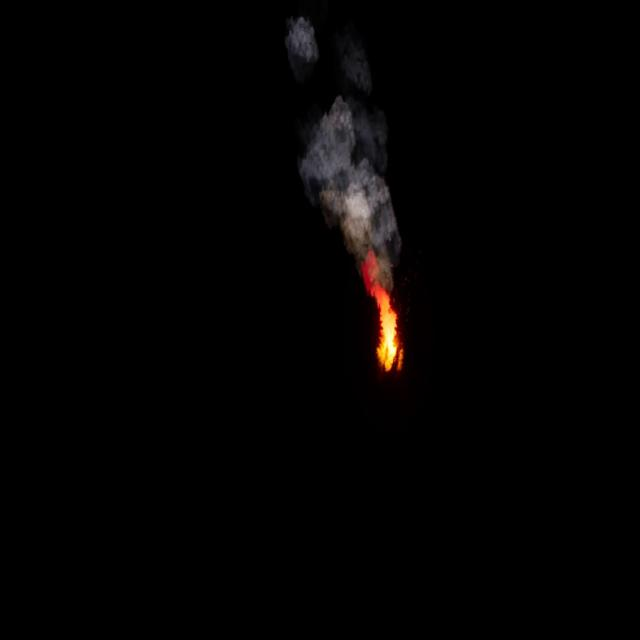fire: (361, 251, 404, 375)
smoke: (301, 87, 397, 286), (288, 16, 322, 65)
